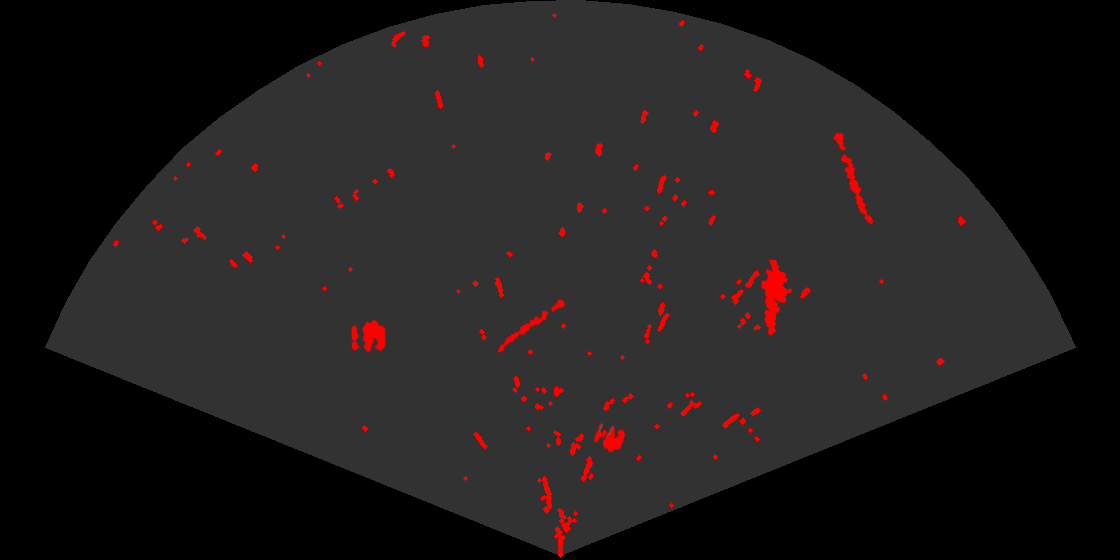ball: (350, 318, 387, 354), (592, 422, 627, 454)
chain: (496, 294, 571, 354), (831, 130, 875, 226)
frogman: (759, 260, 794, 337)
